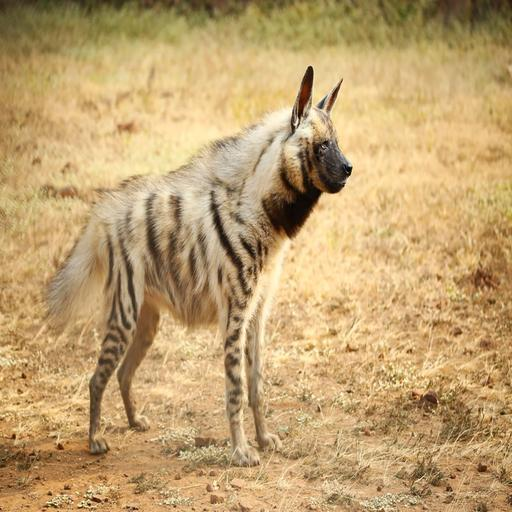Hyena: (35, 70, 369, 473)
